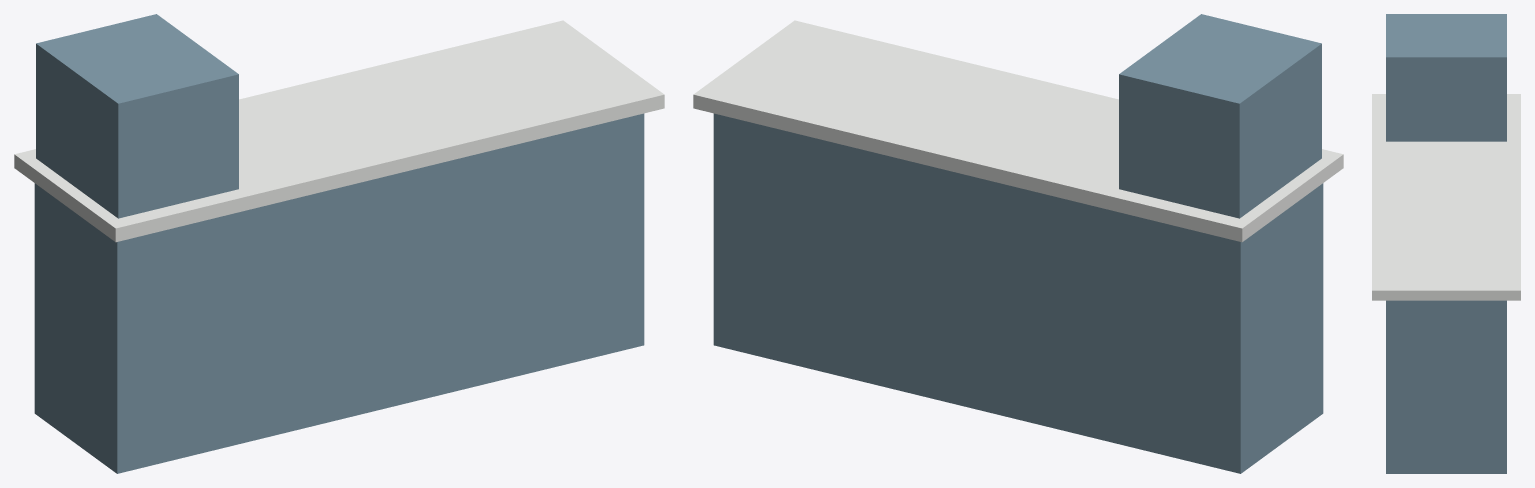
Rendered from road-car-showroom-lineup-service-reception-desk-9c0ad21c__15139.glb.
The picture shows the model from 3 angles, left to right: view 1: azimuth 30°, elevation 25°; view 2: azimuth 150°, elevation 25°; view 3: azimuth 270°, elevation 25°; orthographic projection. The views are drawn at different scales.
Visible parts, largest first — view 1: service-reception-desk; view 2: service-reception-desk; view 3: service-reception-desk.
Boxes of the visible parts, <box> form: service-reception-desk: <box>14,14,664,473</box>; service-reception-desk: <box>693,14,1343,473</box>; service-reception-desk: <box>1372,14,1520,473</box>.
Bounding box in the file's own units: 2.5 × 1.61 × 0.8.
